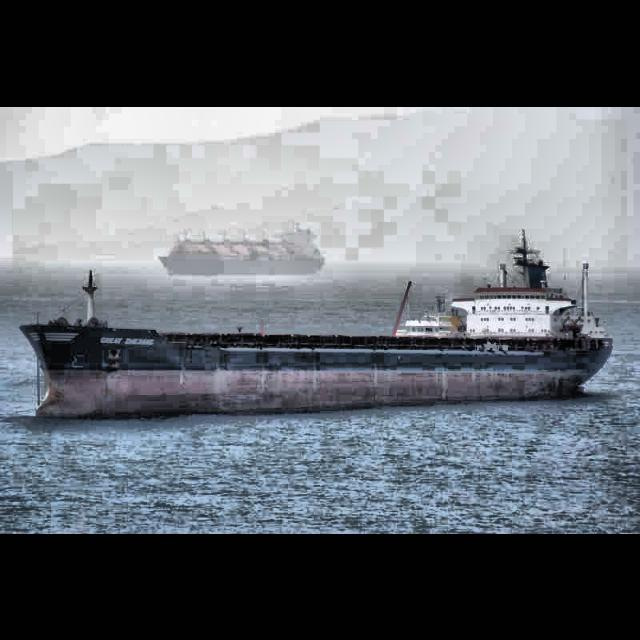bulk_carrier: (17, 225, 616, 420)
